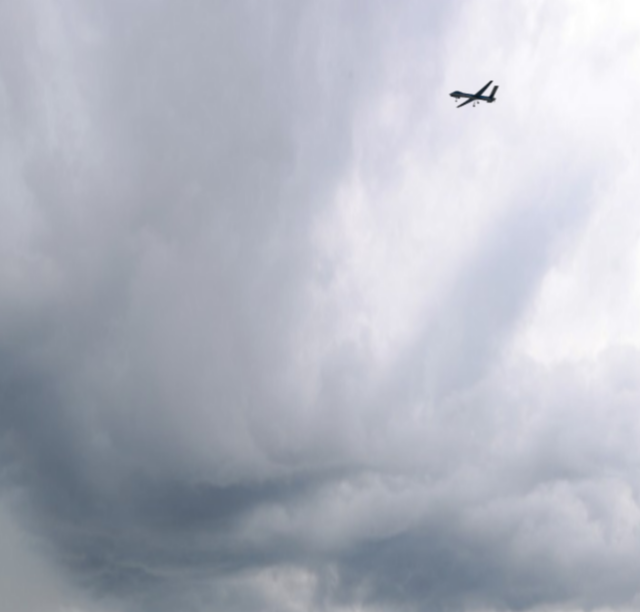military drone: (449, 79, 499, 108)
